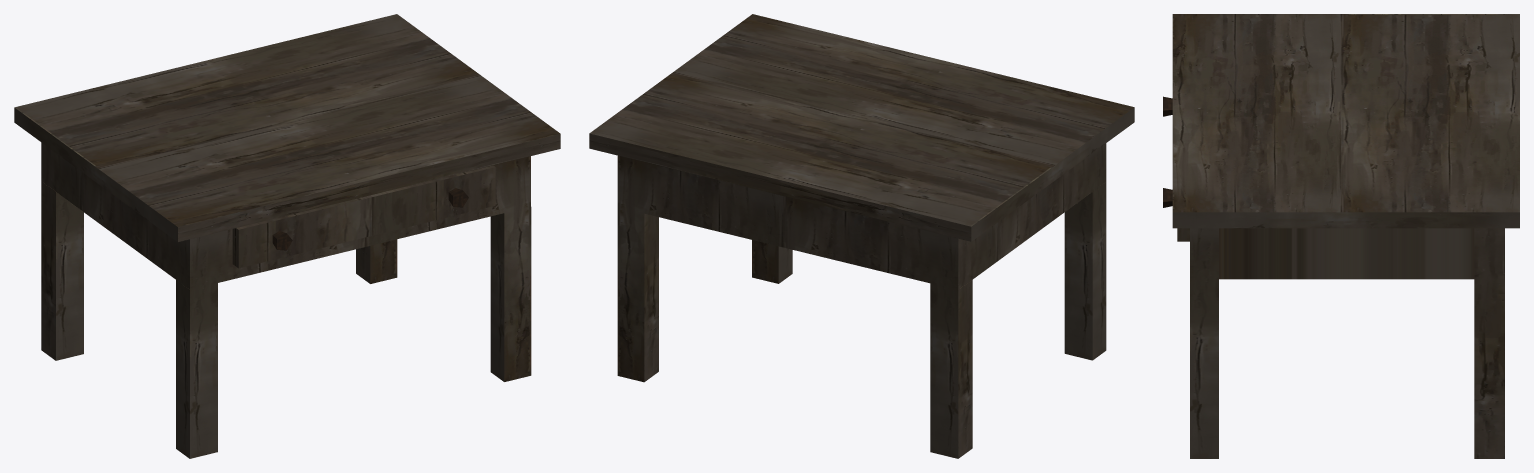
Rendered from TableDesk.fbx.
3 renders of one model, left to right at view 1: azimuth 30°, elevation 25°; view 2: azimuth 150°, elevation 25°; view 3: azimuth 270°, elevation 25°, orthographic. The views are drawn at different scales.
Parts seen in each view (by area): view 1: TableDesk; view 2: TableDesk; view 3: TableDesk.
Boxes of the visible parts, <box> form: TableDesk: <box>14,14,560,458</box>; TableDesk: <box>589,14,1134,458</box>; TableDesk: <box>1163,14,1519,458</box>.
Size of the model in its own units: 1.42 by 0.8613 by 1.08.
